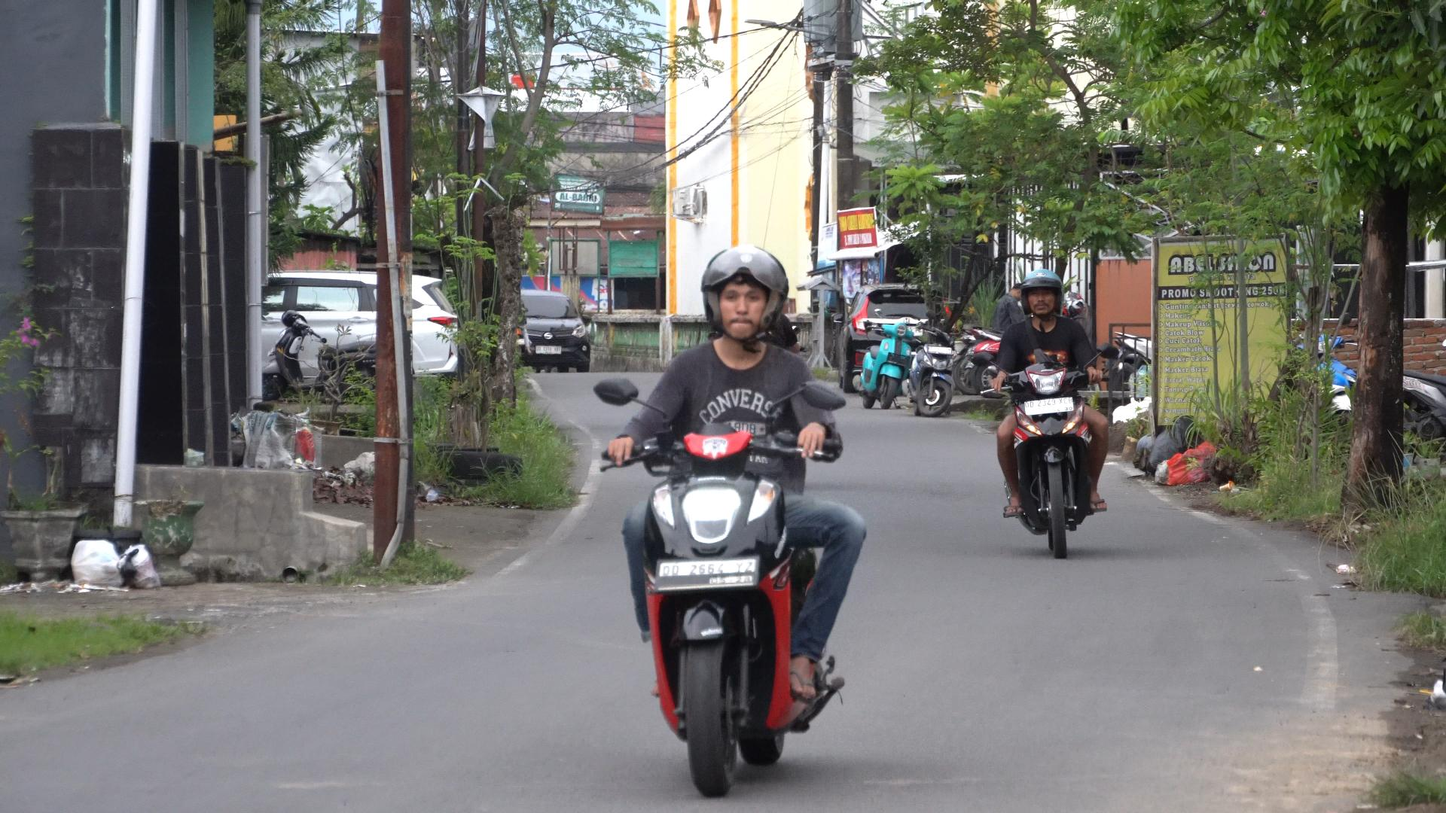number-plate: (646, 554, 761, 591)
